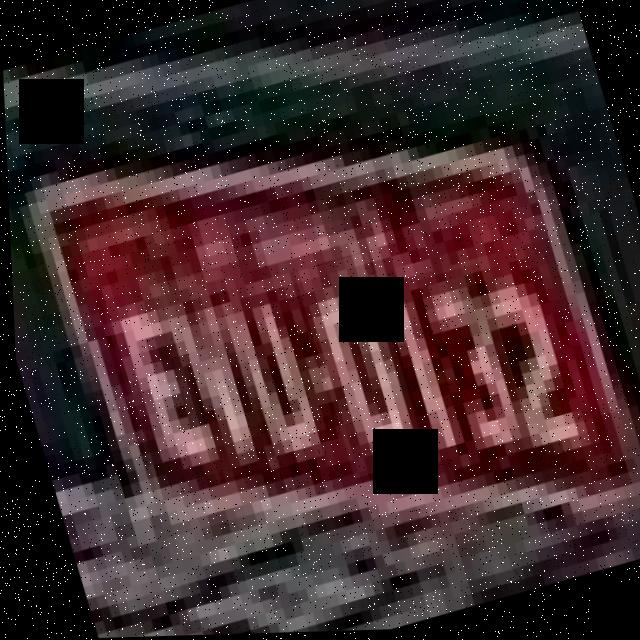0: (291, 252, 425, 481)
3: (412, 265, 529, 469)
E: (98, 282, 217, 501)
I: (369, 264, 474, 476)
U: (203, 270, 331, 482)
Y: (149, 270, 270, 485)
